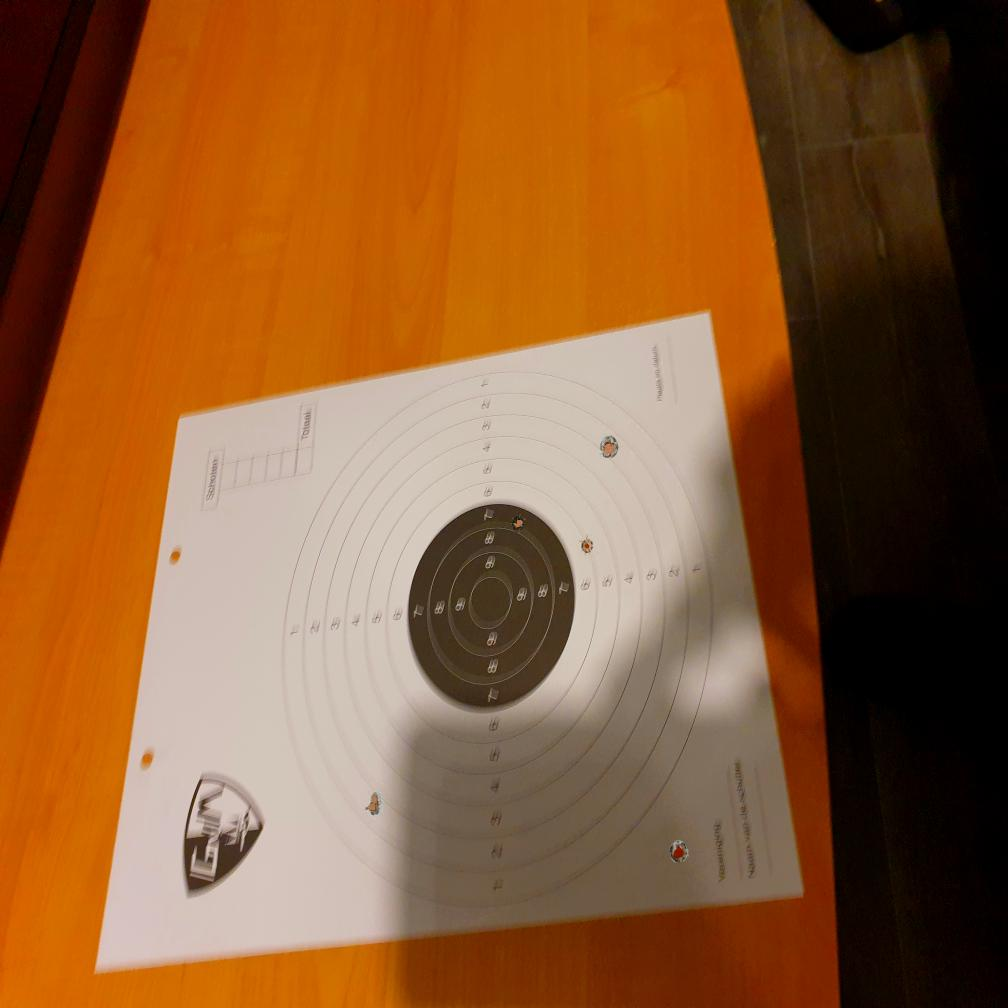0: (669, 836, 688, 864)
3: (600, 435, 619, 459), (366, 804, 380, 816)
4: (370, 790, 382, 804)
6: (579, 535, 593, 555)
7: (510, 514, 525, 530)
Target: (279, 366, 716, 914)
black_contour: (406, 503, 576, 712)
